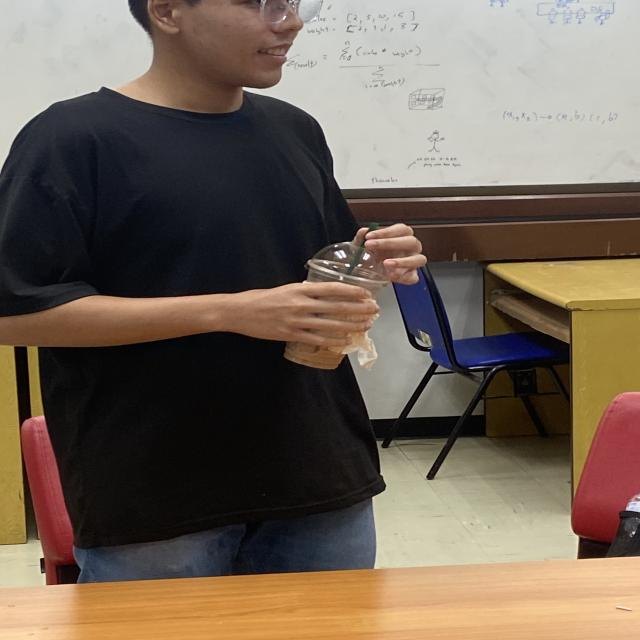cup: (282, 240, 401, 372)
